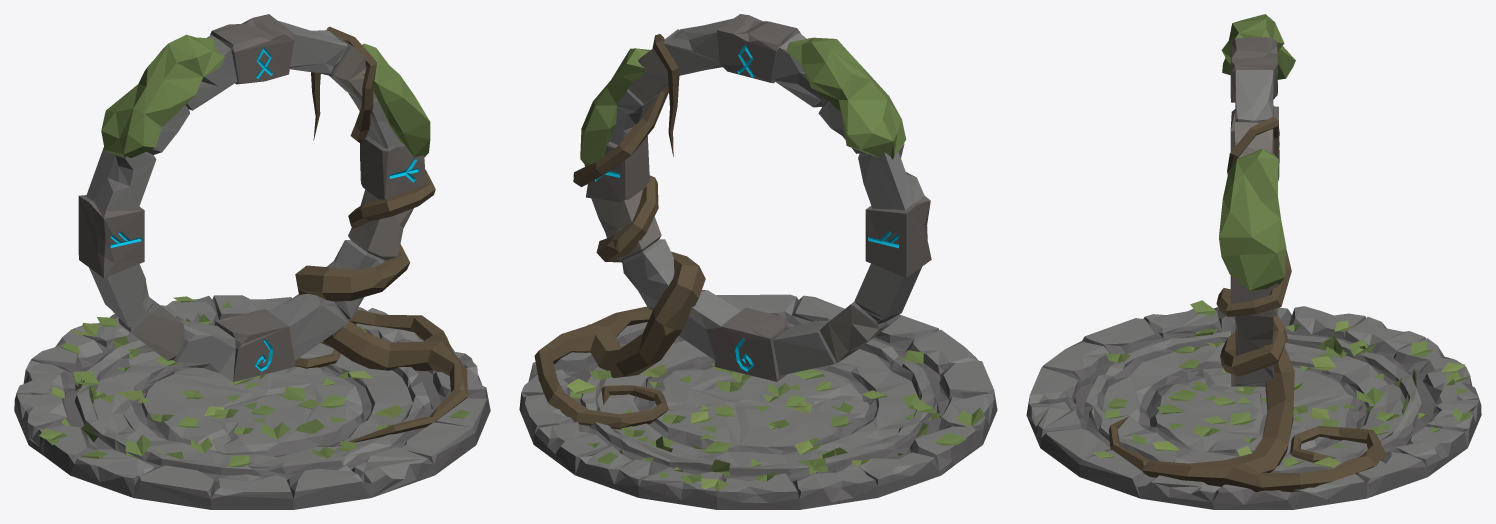
File: portal.obj
3 renders of one model, left to right at view 1: azimuth 30°, elevation 25°; view 2: azimuth 150°, elevation 25°; view 3: azimuth 270°, elevation 25°, orthographic. The views are drawn at different scales.
Visible parts, largest first — view 1: Portal_01; view 2: Portal_01; view 3: Portal_01.
Part boxes in pixels (left/top/right/bottom): Portal_01: left=14, top=14, right=490, bottom=509; Portal_01: left=519, top=14, right=997, bottom=509; Portal_01: left=1026, top=14, right=1481, bottom=509.
Bounding box in the file's own units: 2.58 × 2.33 × 2.59.
Materials: 1 (1 with a texture image).
